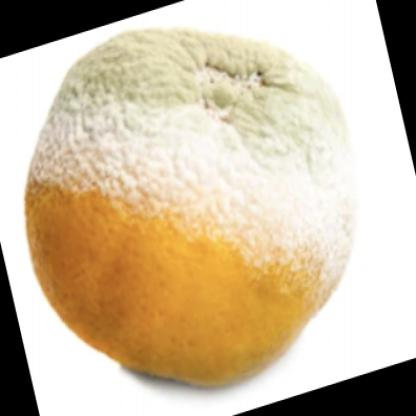rotten_orange: (17, 26, 367, 390)
